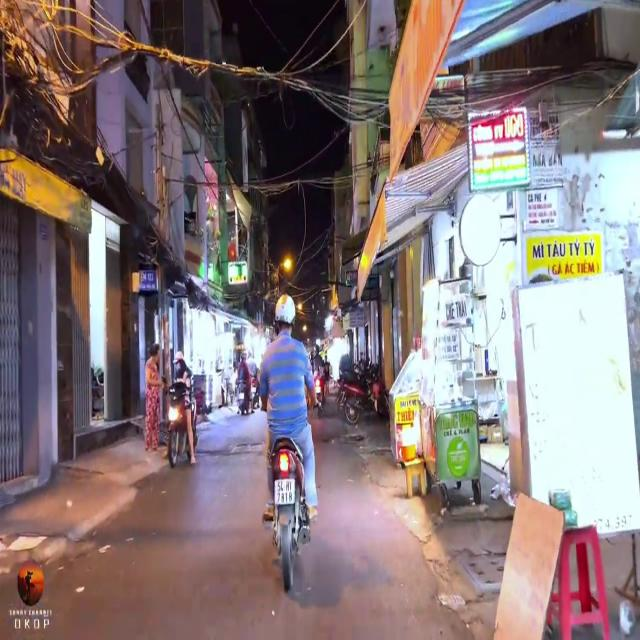bien_trang: (270, 476, 299, 509)
